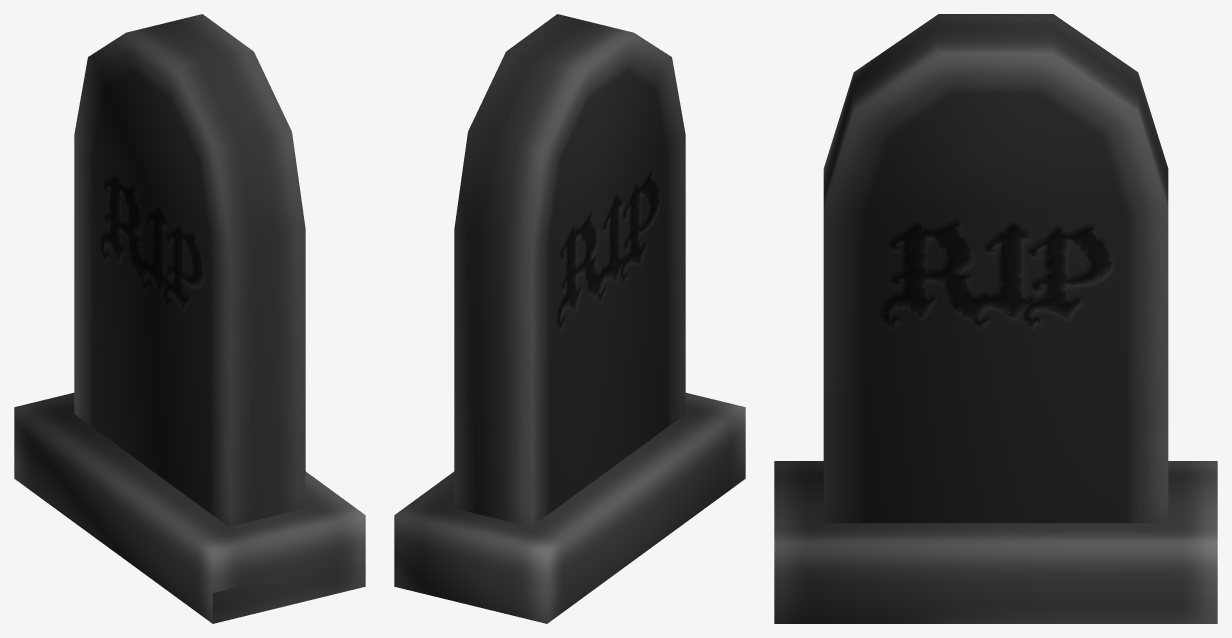
The model's file is tombstone1.fbx.
3 views of the same model, side by side, from view 1: azimuth 30°, elevation 25°; view 2: azimuth 150°, elevation 25°; view 3: azimuth 270°, elevation 25° (orthographic). The views are drawn at different scales.
Visible parts, largest first — view 1: Cube; view 2: Cube; view 3: Cube.
Part boxes in pixels (x1,y1,x2,y2): Cube: (14,14,365,623); Cube: (394,14,745,623); Cube: (774,14,1217,623).
Size of the model in its own units: 88.89 by 273 by 200.
